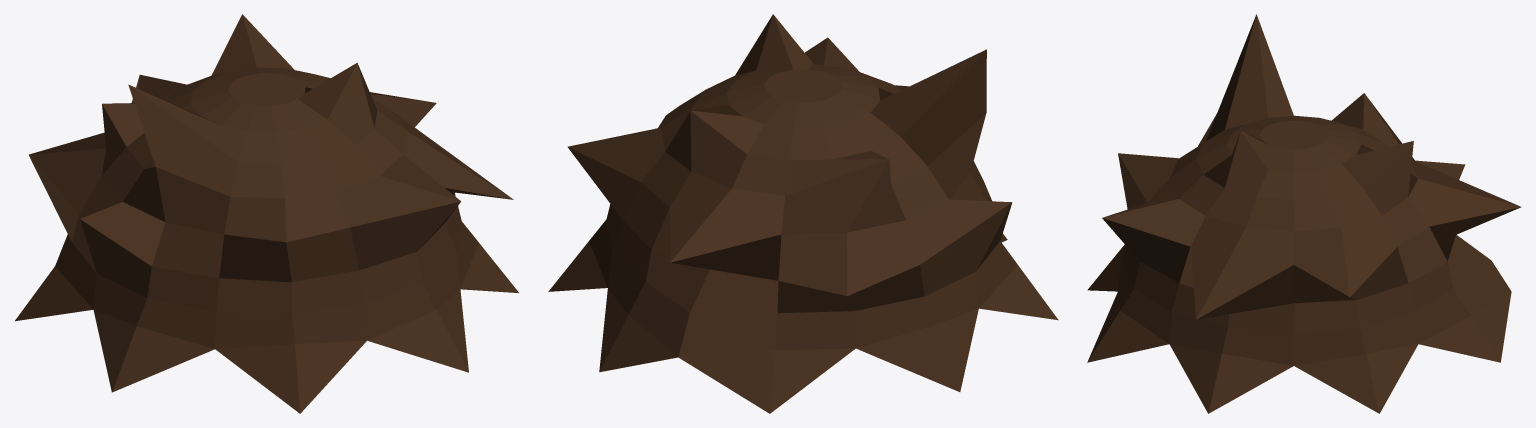
File: Melee Zombie Male Hair.fbx
3 views of the same model, side by side, from view 1: azimuth 30°, elevation 25°; view 2: azimuth 150°, elevation 25°; view 3: azimuth 270°, elevation 25° (orthographic). The views are drawn at different scales.
Visible parts, largest first — view 1: Hair; view 2: Hair; view 3: Hair.
Part boxes in pixels (box(x1,y1,x2,y2)): Hair: box(15, 14, 518, 413); Hair: box(548, 14, 1058, 413); Hair: box(1087, 14, 1521, 413).
Size of the model in its own units: 34.1 by 22.18 by 35.83.
